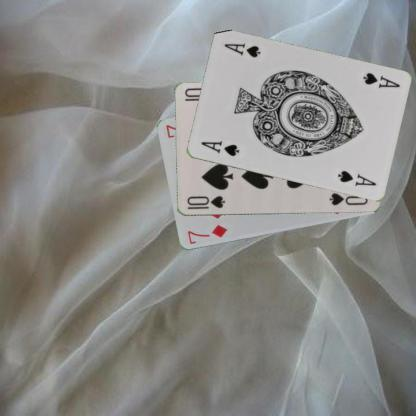10s: (184, 194, 226, 210)
7d: (184, 223, 228, 245)
As: (360, 70, 400, 90), (198, 139, 240, 158)
